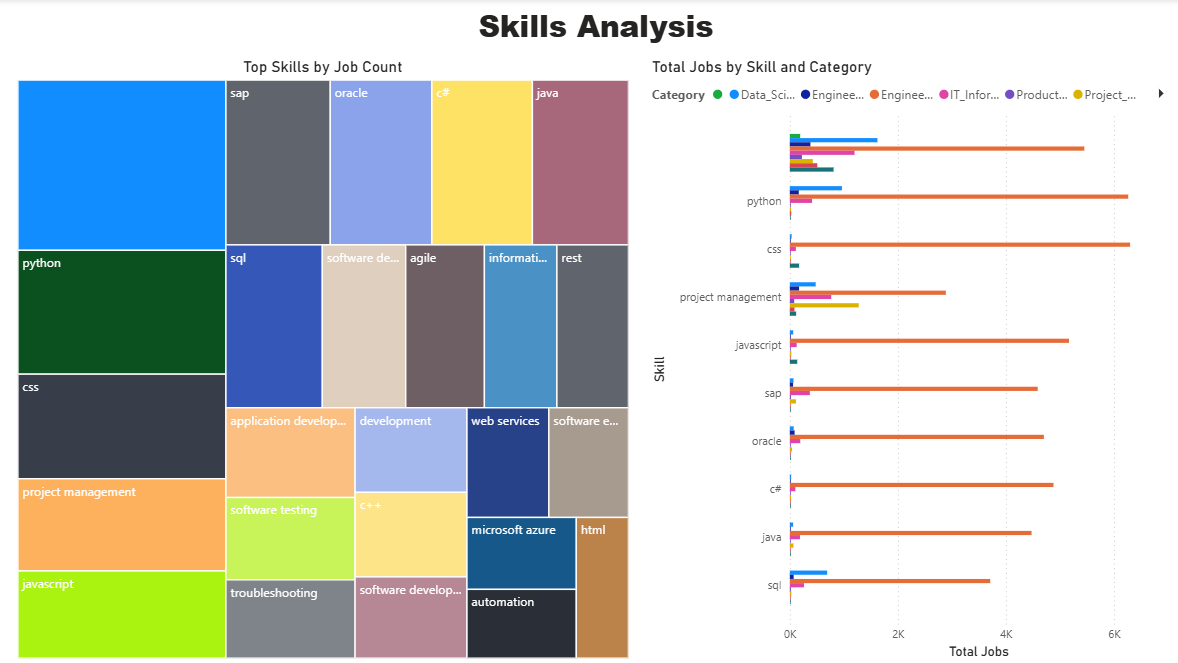

What the dashboard file says about the page in this screenshot:
{"tool":"powerbi","page":{"name":"Skills","canvas":[1280,720],"ordinal":2},"visuals":[{"type":"treemap","title":"Top Skills by Job Count","fields":{"Group":["Naukri_Combined_AllCategories.Skill"],"Values":["Naukri_Combined_AllCategories.Total Jobs"]},"box":[16,64,672,656],"z":0},{"type":"clusteredBarChart","fields":{"Category":["Naukri_Combined_AllCategories.Skill"],"Y":["Naukri_Combined_AllCategories.Total Jobs"],"Series":["Naukri_Combined_AllCategories.Category"]},"box":[704,64,576,656],"z":1000},{"type":"textbox","box":[16,0,1264,64],"z":2000}]}

Visuals, with their boxes in screenshot pixels (x1, y1, x2, y2), scaled from the page's 1280x720 canvas onto the 1178x663 screenshot:
"Top Skills by Job Count" treemap: x1=15 y1=59 x2=633 y2=662
clusteredBarChart - Naukri_Combined_AllCategories.Skill x Naukri_Combined_AllCategories.Total Jobs: x1=648 y1=59 x2=1177 y2=662
textbox: x1=15 y1=0 x2=1177 y2=59
